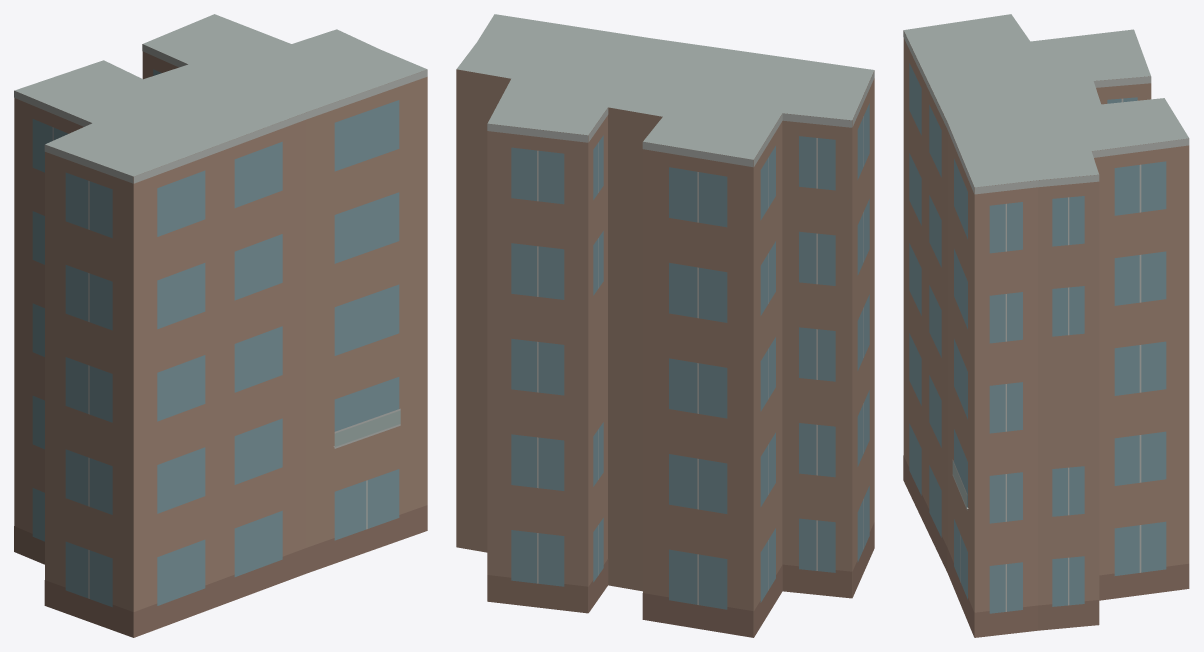
The model's file is survey-upis-32651565.glb.
The picture shows the model from 3 angles, left to right: view 1: azimuth 30°, elevation 25°; view 2: azimuth 150°, elevation 25°; view 3: azimuth 270°, elevation 25°; orthographic projection. The views are drawn at different scales.
Visible parts, largest first — view 1: survey-upis-32651565.tmp; view 2: survey-upis-32651565.tmp; view 3: survey-upis-32651565.tmp.
Part boxes in pixels (x1,y1,x2,y2): survey-upis-32651565.tmp: [14, 14, 427, 637]; survey-upis-32651565.tmp: [456, 14, 874, 637]; survey-upis-32651565.tmp: [903, 14, 1189, 637].
Bounding box in the file's own units: 12.89 × 15.6 × 8.98.
